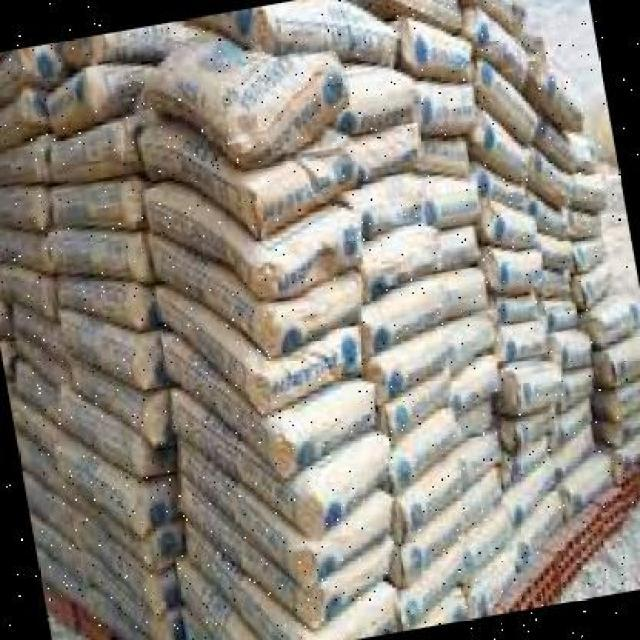gunny_bag: (244, 127, 357, 244), (272, 374, 380, 491), (369, 311, 495, 406), (289, 422, 391, 539), (254, 195, 362, 304), (361, 266, 488, 358), (236, 59, 348, 163), (257, 270, 363, 361), (261, 328, 366, 417), (310, 488, 395, 592), (361, 222, 478, 297), (54, 305, 153, 393), (311, 528, 395, 626), (391, 450, 466, 547), (47, 218, 154, 285), (386, 405, 464, 495), (259, 6, 387, 60), (397, 493, 464, 585), (459, 531, 529, 618), (351, 167, 439, 233), (396, 542, 470, 620), (381, 363, 450, 446), (400, 12, 478, 85), (476, 55, 541, 140), (313, 580, 402, 640), (346, 68, 417, 140), (514, 483, 571, 568), (346, 119, 418, 185), (53, 278, 147, 327), (471, 5, 530, 83), (46, 173, 137, 221), (475, 104, 530, 182), (499, 358, 561, 427), (499, 454, 559, 522), (413, 74, 479, 135), (50, 128, 129, 176), (560, 438, 611, 506), (451, 349, 503, 415), (550, 386, 598, 455), (464, 505, 516, 567), (548, 418, 599, 481), (587, 292, 640, 352), (44, 66, 95, 128), (422, 171, 478, 226), (479, 162, 536, 215), (463, 459, 505, 529), (484, 242, 540, 294), (535, 59, 579, 125), (532, 149, 575, 210), (454, 427, 499, 484), (480, 200, 537, 245), (504, 434, 550, 488), (388, 0, 466, 31), (421, 133, 476, 176), (533, 115, 575, 171), (404, 592, 465, 630), (492, 287, 544, 331), (501, 314, 549, 361), (505, 406, 555, 451), (455, 390, 498, 442), (559, 365, 599, 418), (50, 34, 104, 73), (573, 260, 616, 308), (538, 225, 576, 274), (564, 131, 607, 172), (568, 171, 613, 210), (551, 329, 591, 372), (606, 338, 640, 387), (615, 423, 640, 484), (473, 0, 524, 27), (607, 376, 640, 416), (609, 397, 640, 439), (534, 194, 564, 235), (571, 239, 612, 269), (571, 209, 604, 244), (546, 292, 577, 328), (541, 264, 574, 291)
